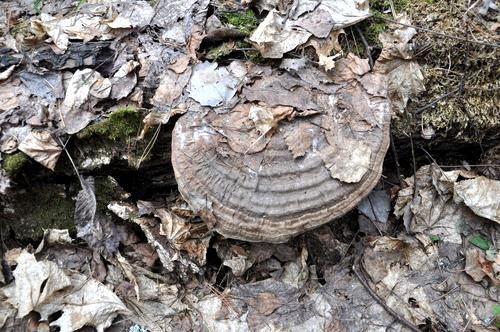Ganoderma - Fruit Body: (167, 54, 391, 242)
